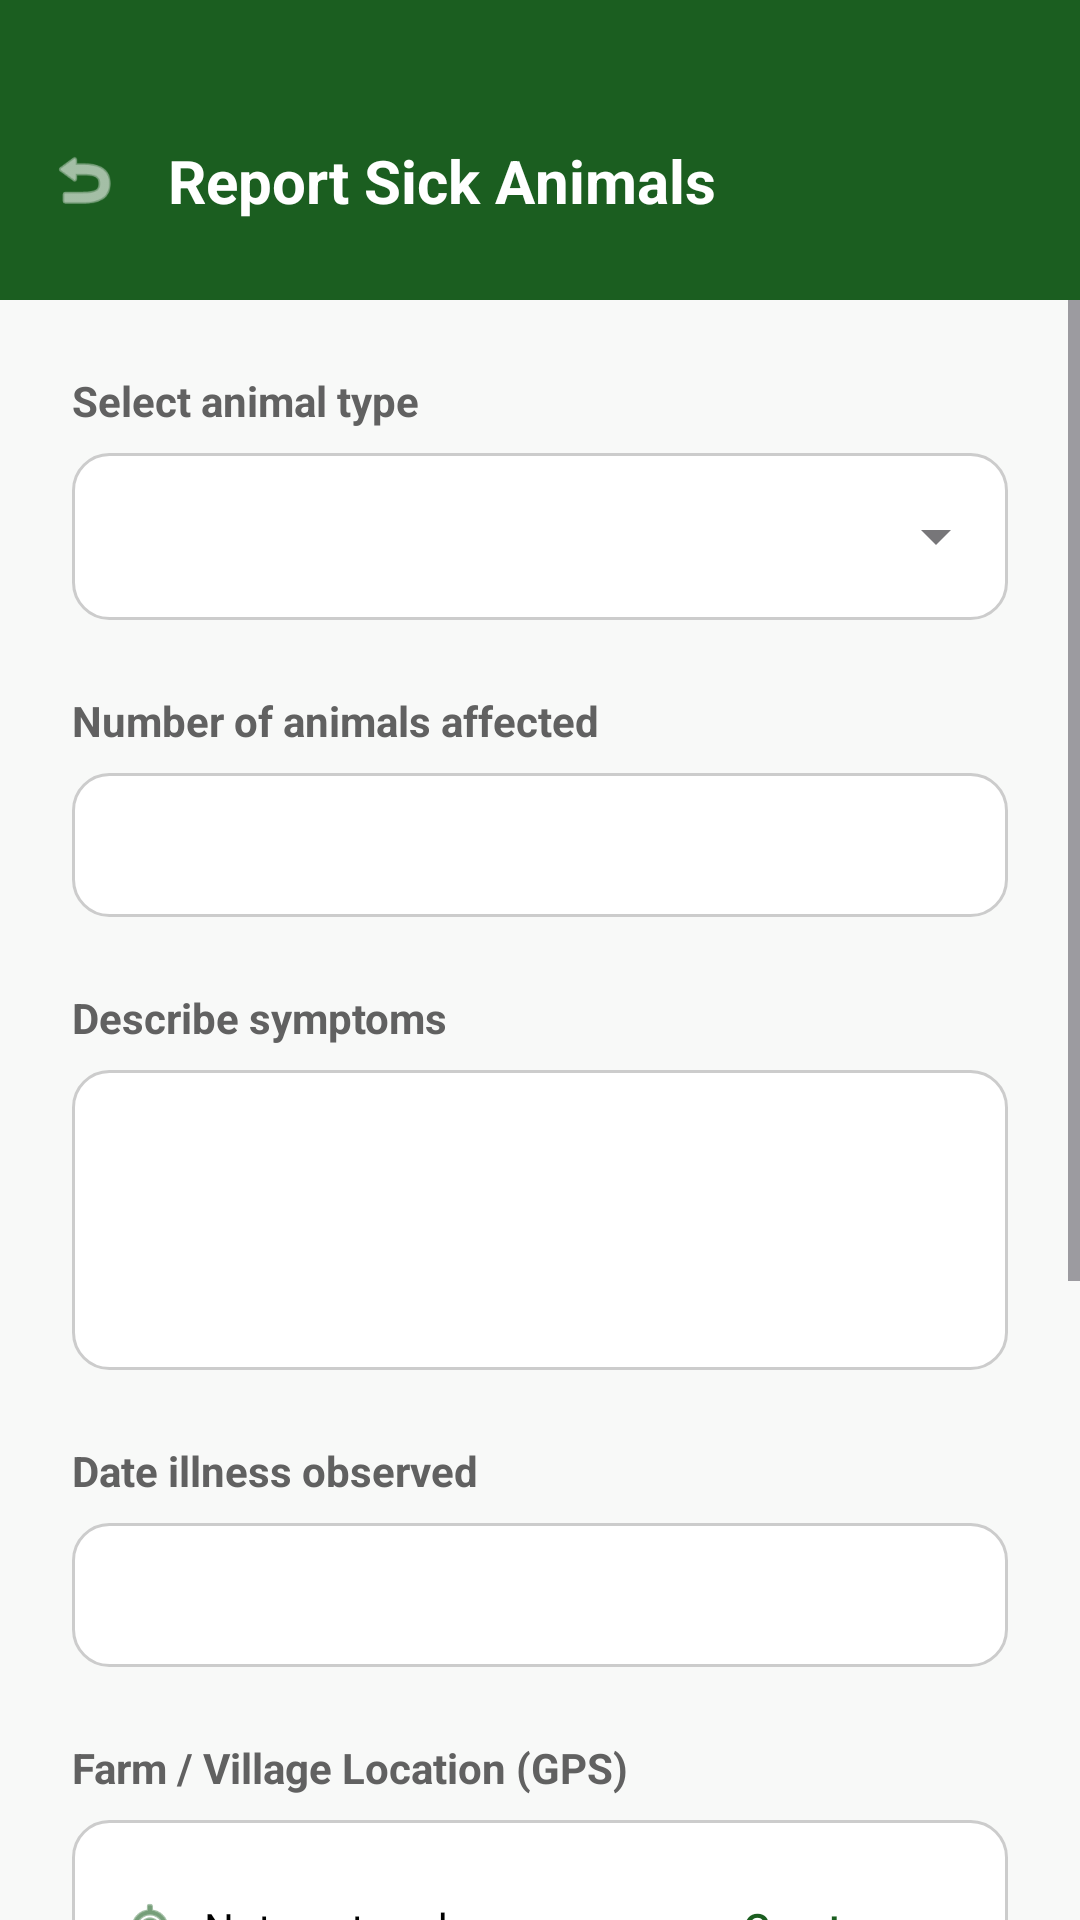

Icons on this 1080×1920 Android screen, each with the point to tap as (x=x, y=y):
revert: (x=85, y=180)
